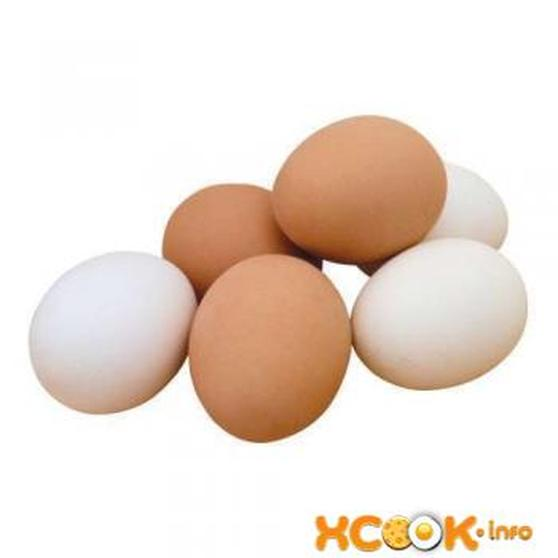egg: (192, 252, 351, 448), (27, 246, 192, 420), (271, 114, 445, 264)
